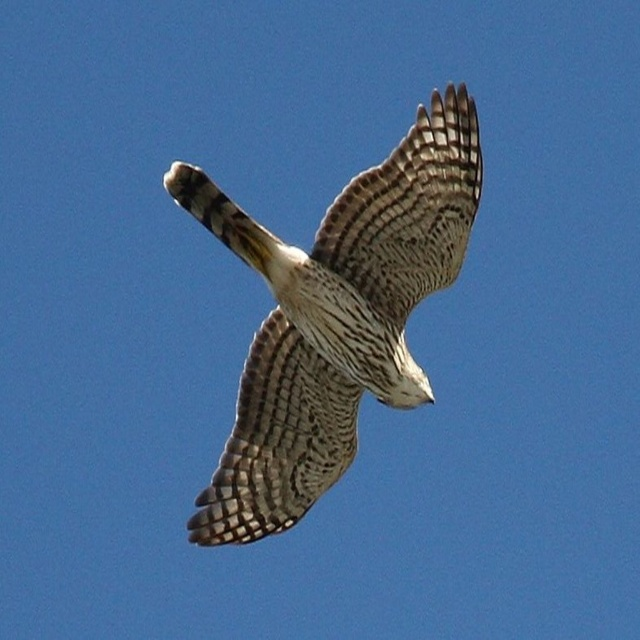Eagle: (157, 77, 487, 560)
